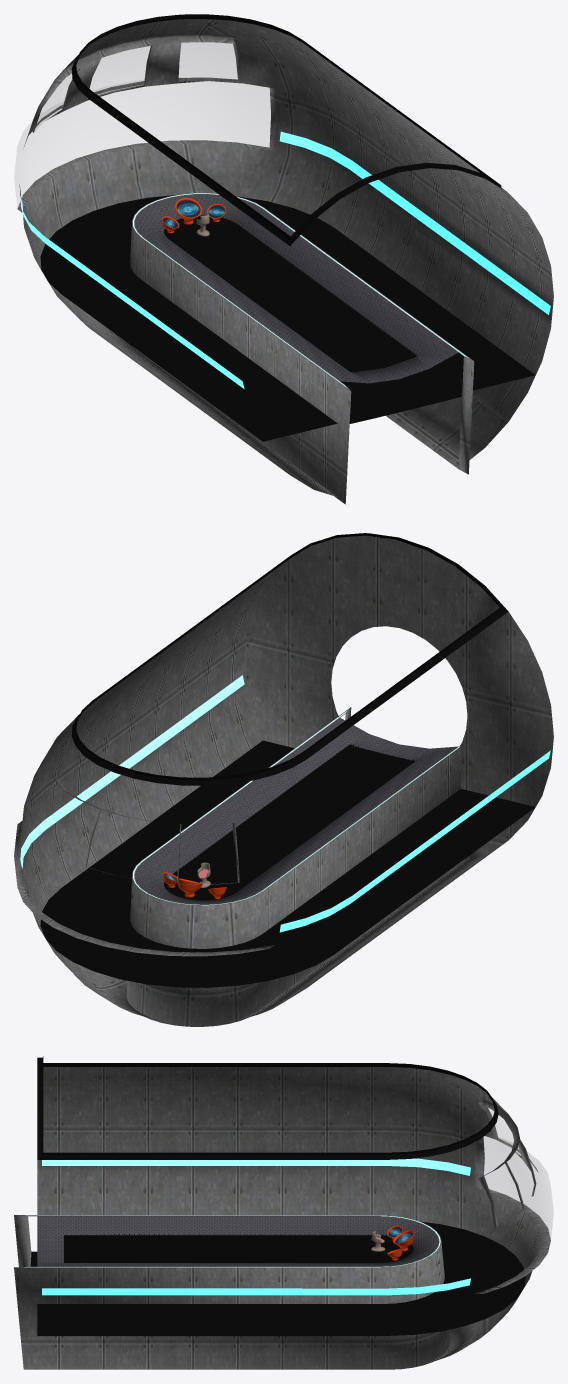
File: CockPit.glb
3 views of the same model, one above another, from view 1: azimuth 30°, elevation 25°; view 2: azimuth 150°, elevation 25°; view 3: azimuth 270°, elevation 25° (orthographic). The views are drawn at different scales.
Parts seen in each view (by area): view 1: Sci-Fi Space Station; view 2: Sci-Fi Space Station; view 3: Sci-Fi Space Station.
Part boxes in pixels (box(x1,y1,x2,y2)): Sci-Fi Space Station: box(14, 14, 553, 504); Sci-Fi Space Station: box(14, 533, 553, 1026); Sci-Fi Space Station: box(14, 1056, 553, 1369).
Bounding box in the file's own units: 20.08 × 20.25 × 34.86.
11 materials, 3 textured.
